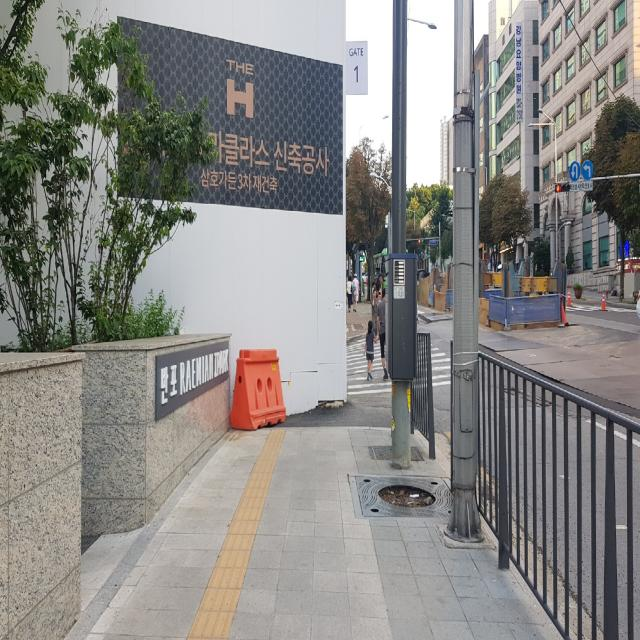횡단보도: (346, 335, 451, 396)
